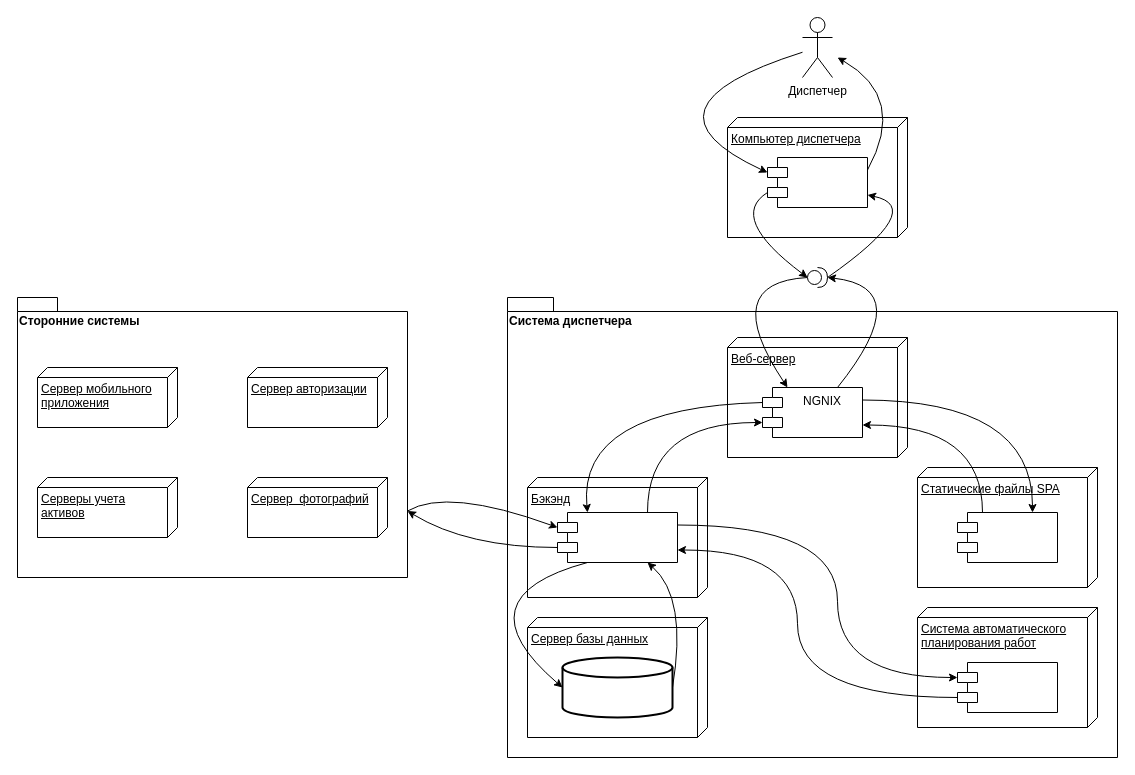
Image size: 1135x775. Some labels were removed from this diagram. The shapes that lost their labels are listed below. From the top down, each one's centre as x and y in pixels, then its label:
point 817,182: Веб-браузер с поддержкой HTML 5 и JS
point 817,277: Порт 443, HTTPS
point 617,537: ASP.NET Core
point 1007,537: React
point 617,687: PostgreSQL 14
point 1007,687: Модуль АПР
